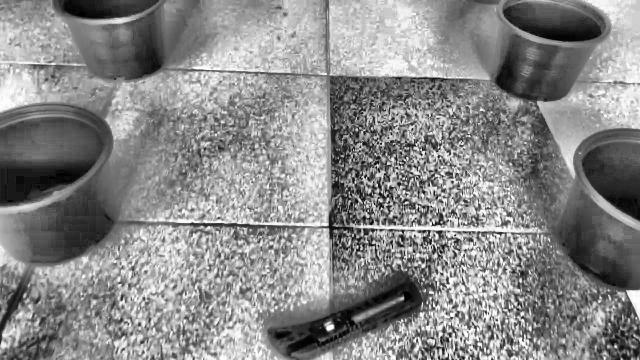pot: (0, 103, 118, 266), (472, 0, 612, 102), (556, 130, 640, 292), (51, 0, 169, 82)
